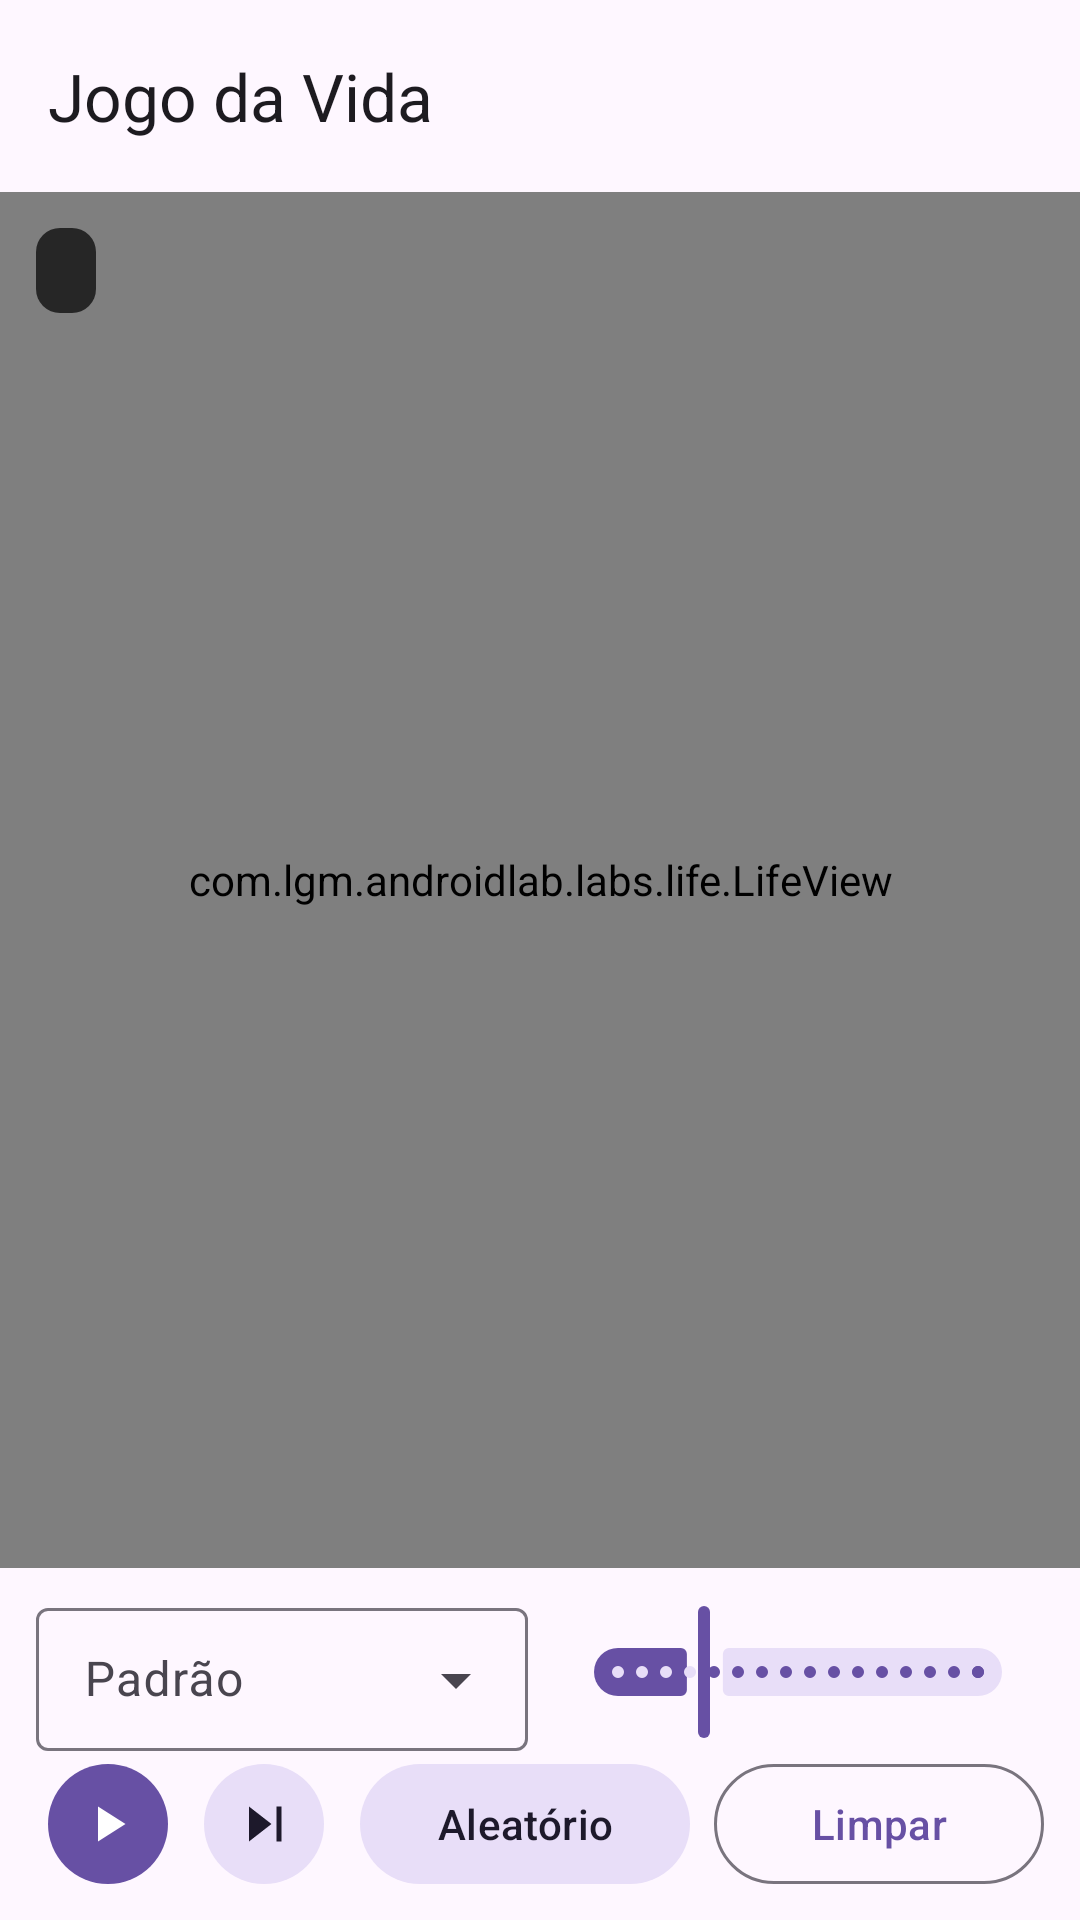

Icons on this 1080x1920 Android screen, each with its box as bbox=(x1, y1, x2, y2):
Passo: bbox=(204, 1764, 324, 1884)
Rodar: bbox=(48, 1764, 168, 1884)
